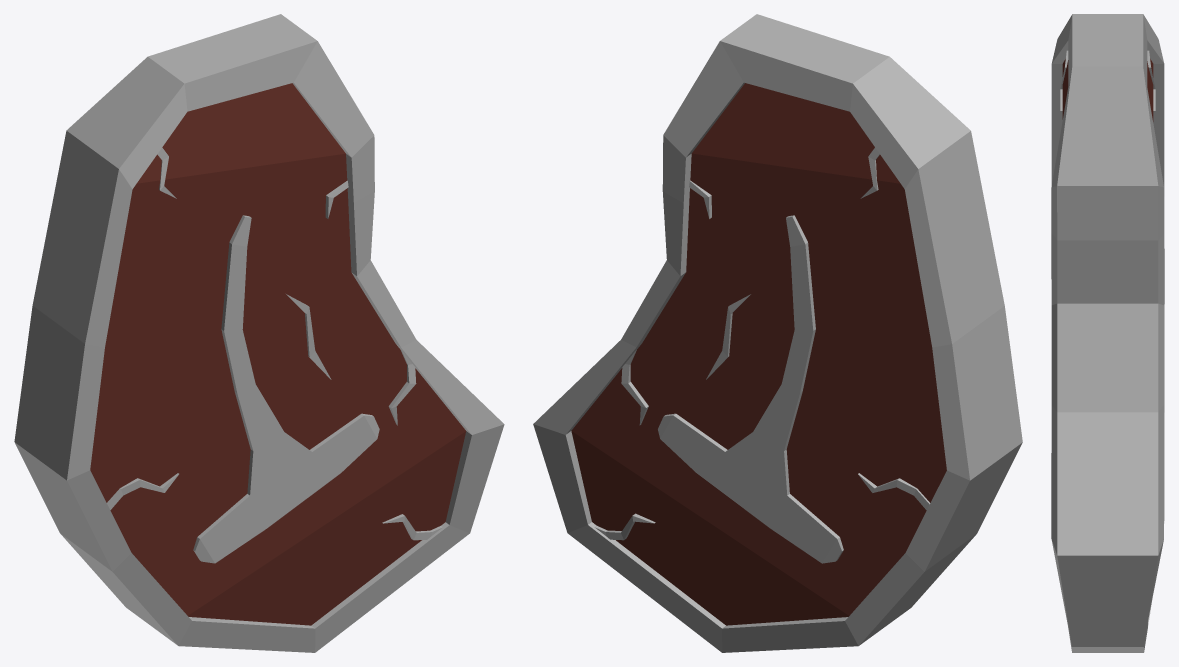
File: CookedMeat.fbx
The picture shows the model from 3 angles, left to right: view 1: azimuth 30°, elevation 25°; view 2: azimuth 150°, elevation 25°; view 3: azimuth 270°, elevation 25°; orthographic projection. The views are drawn at different scales.
Parts seen in each view (by area): view 1: Steak; view 2: Steak; view 3: Steak.
Part boxes in pixels (x1,y1,x2,y2): Steak: (14,14,504,652); Steak: (533,14,1022,652); Steak: (1051,14,1164,652).
Bounding box in the file's own units: 65.98 × 88.09 × 15.37.
